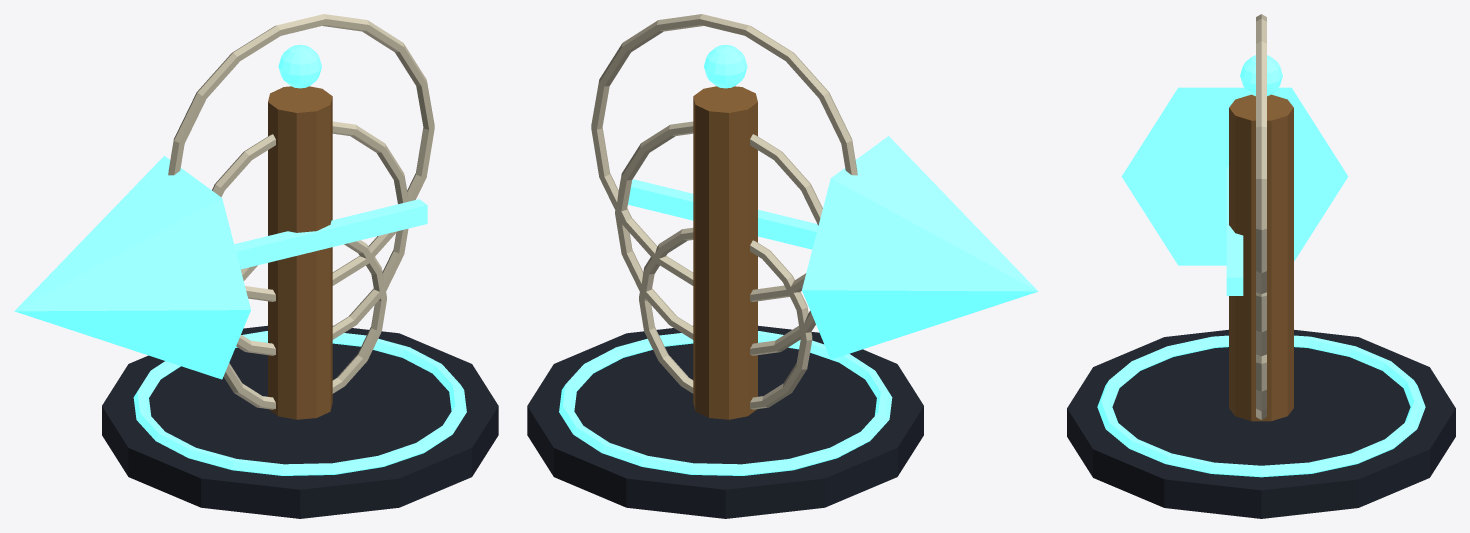
File: runtime.glb
3 views of the same model, side by side, from view 1: azimuth 30°, elevation 25°; view 2: azimuth 150°, elevation 25°; view 3: azimuth 270°, elevation 25° (orthographic). The views are drawn at different scales.
Parts seen in each view (by area): view 1: aetherion-orbit-beacon-v04_base_nocol, aetherion-orbit-beacon-v04_direction_head_nocol, aetherion-orbit-beacon-v04_mast_nocol, aetherion-orbit-beacon-v04_base_orbit_nocol, aetherion-orbit-beacon-v04_meridian_2_nocol, aetherion-orbit-beacon-v04_direction_bar_nocol, aetherion-orbit-beacon-v04_meridian_1_nocol, aetherion-orbit-beacon-v04_meridian_0_nocol, aetherion-orbit-beacon-v04_zenith_nocol; view 2: aetherion-orbit-beacon-v04_base_nocol, aetherion-orbit-beacon-v04_direction_head_nocol, aetherion-orbit-beacon-v04_mast_nocol, aetherion-orbit-beacon-v04_base_orbit_nocol, aetherion-orbit-beacon-v04_meridian_2_nocol, aetherion-orbit-beacon-v04_meridian_1_nocol, aetherion-orbit-beacon-v04_meridian_0_nocol, aetherion-orbit-beacon-v04_direction_bar_nocol, aetherion-orbit-beacon-v04_zenith_nocol; view 3: aetherion-orbit-beacon-v04_base_nocol, aetherion-orbit-beacon-v04_direction_head_nocol, aetherion-orbit-beacon-v04_mast_nocol, aetherion-orbit-beacon-v04_base_orbit_nocol, aetherion-orbit-beacon-v04_meridian_2_nocol, aetherion-orbit-beacon-v04_direction_bar_nocol, aetherion-orbit-beacon-v04_zenith_nocol, aetherion-orbit-beacon-v04_meridian_0_nocol, aetherion-orbit-beacon-v04_meridian_1_nocol.
Boxes of the visible parts, x1,y1,x2,y2 form: aetherion-orbit-beacon-v04_base_nocol: (102,325,498,518); aetherion-orbit-beacon-v04_direction_head_nocol: (14,156,250,379); aetherion-orbit-beacon-v04_mast_nocol: (268,86,332,419); aetherion-orbit-beacon-v04_base_orbit_nocol: (133,331,466,475); aetherion-orbit-beacon-v04_meridian_2_nocol: (168,14,434,301); aetherion-orbit-beacon-v04_direction_bar_nocol: (234,199,427,269); aetherion-orbit-beacon-v04_meridian_1_nocol: (212,121,408,355); aetherion-orbit-beacon-v04_meridian_0_nocol: (223,240,386,409); aetherion-orbit-beacon-v04_zenith_nocol: (278,44,321,88); aetherion-orbit-beacon-v04_base_nocol: (527,325,923,518); aetherion-orbit-beacon-v04_direction_head_nocol: (802,136,1038,359); aetherion-orbit-beacon-v04_mast_nocol: (693,86,757,419); aetherion-orbit-beacon-v04_base_orbit_nocol: (559,331,892,475); aetherion-orbit-beacon-v04_meridian_2_nocol: (591,14,857,301); aetherion-orbit-beacon-v04_meridian_1_nocol: (615,121,822,355); aetherion-orbit-beacon-v04_meridian_0_nocol: (639,227,812,409); aetherion-orbit-beacon-v04_direction_bar_nocol: (628,179,818,249); aetherion-orbit-beacon-v04_zenith_nocol: (704,44,747,88); aetherion-orbit-beacon-v04_base_nocol: (1067,329,1455,518); aetherion-orbit-beacon-v04_direction_head_nocol: (1121,87,1348,265); aetherion-orbit-beacon-v04_mast_nocol: (1229,94,1293,421); aetherion-orbit-beacon-v04_base_orbit_nocol: (1097,335,1425,477); aetherion-orbit-beacon-v04_meridian_2_nocol: (1256,14,1266,293); aetherion-orbit-beacon-v04_direction_bar_nocol: (1226,167,1243,295); aetherion-orbit-beacon-v04_zenith_nocol: (1240,55,1282,96); aetherion-orbit-beacon-v04_meridian_0_nocol: (1256,354,1266,419); aetherion-orbit-beacon-v04_meridian_1_nocol: (1256,292,1266,356).
Bounding box in the file's own units: 8.45 × 7.12 × 6.16.
